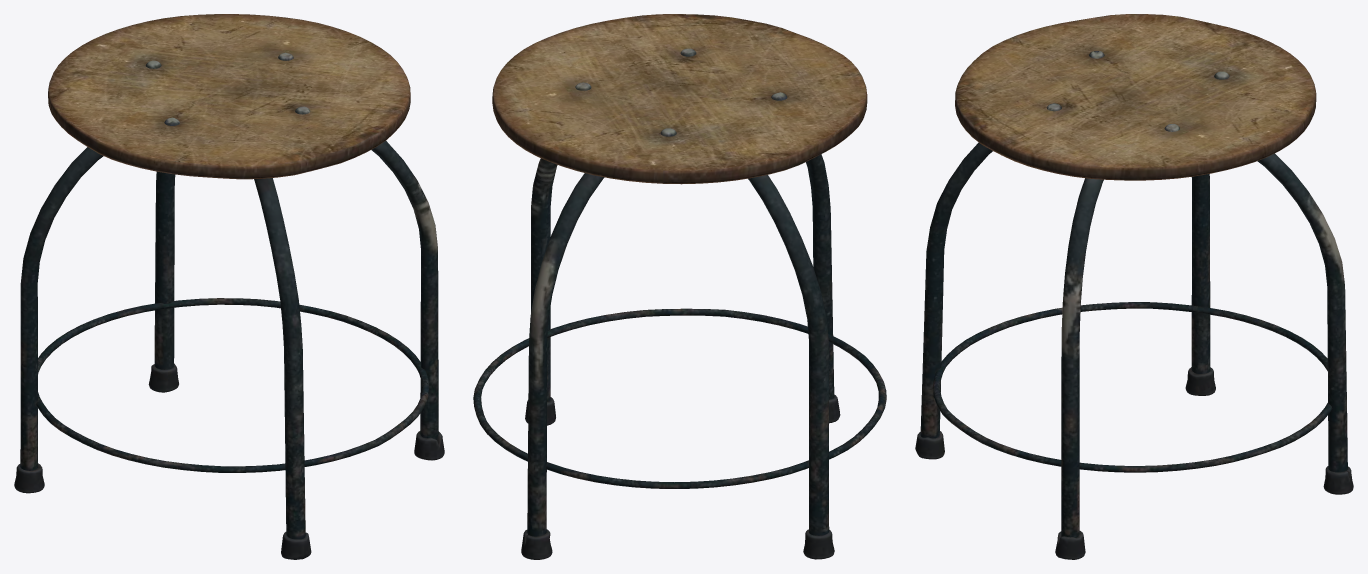
Rendered from prop-stool-metal-b.glb.
3 renders of one model, left to right at view 1: azimuth 30°, elevation 25°; view 2: azimuth 150°, elevation 25°; view 3: azimuth 270°, elevation 25°, orthographic. The views are drawn at different scales.
Parts seen in each view (by area): view 1: metal_stool_02; view 2: metal_stool_02; view 3: metal_stool_02.
Part boxes in pixels (bbox=[...]): metal_stool_02: bbox=[14, 14, 444, 559]; metal_stool_02: bbox=[473, 14, 886, 559]; metal_stool_02: bbox=[915, 14, 1353, 559].
Bounding box in the file's own units: 0.4481 × 0.4581 × 0.4731.
Materials: 1 (1 with a texture image).
